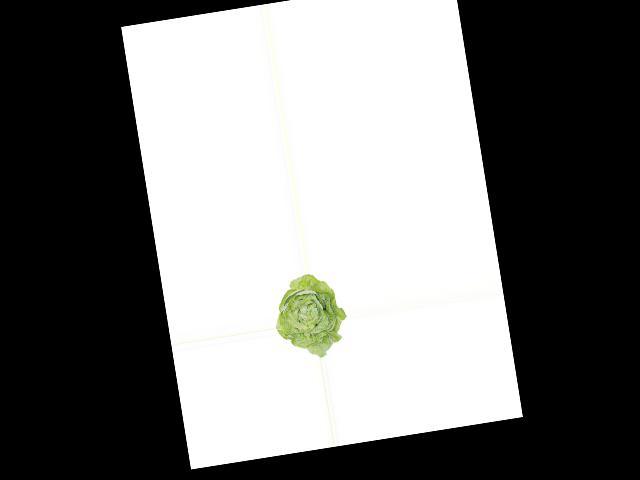lettuce: (269, 268, 351, 361)
